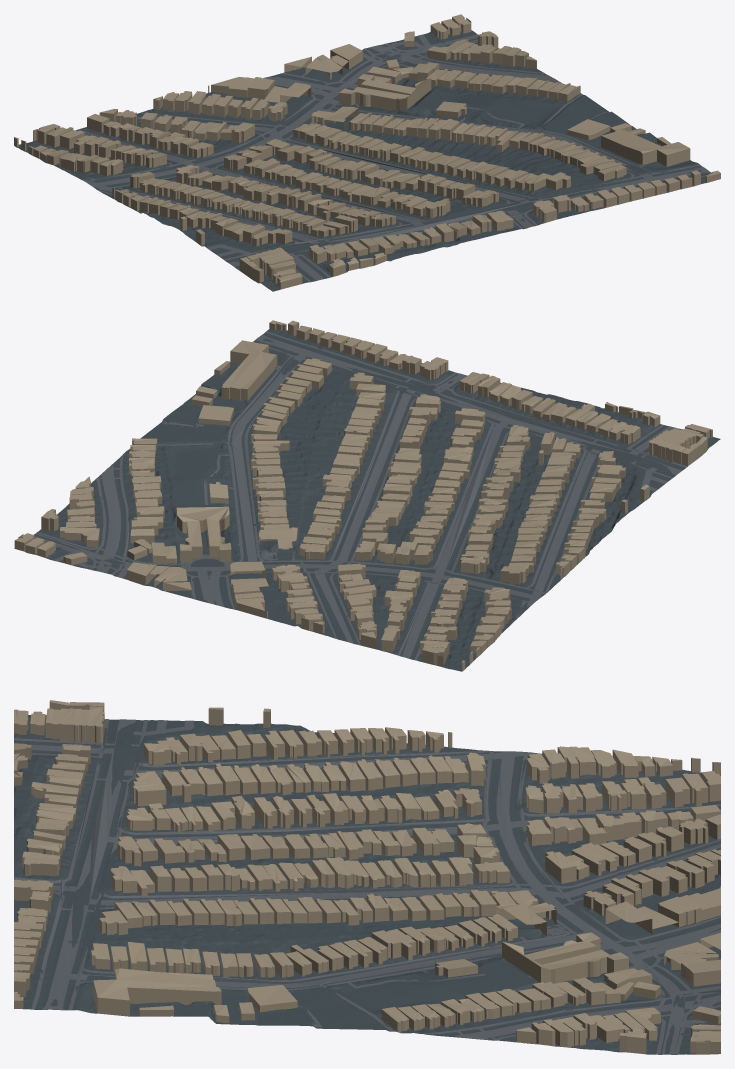
Rendered from epsg26910-1424-10878.lod0.glb.
The picture shows the model from 3 angles, top to bottom: view 1: azimuth 30°, elevation 25°; view 2: azimuth 150°, elevation 25°; view 3: azimuth 270°, elevation 25°; orthographic projection. The views are drawn at different scales.
Visible parts, largest first — view 1: epsg26910-1424-10878-lod0; view 2: epsg26910-1424-10878-lod0; view 3: epsg26910-1424-10878-lod0.
Part boxes in pixels (x1=…): epsg26910-1424-10878-lod0: x1=14, y1=14, x2=720, y2=291; epsg26910-1424-10878-lod0: x1=14, y1=320, x2=720, y2=671; epsg26910-1424-10878-lod0: x1=14, y1=700, x2=720, y2=1054.
Bounding box in the file's own units: 384 × 47.37 × 384.
